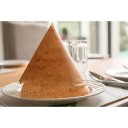dosa: (20, 22, 92, 96)
